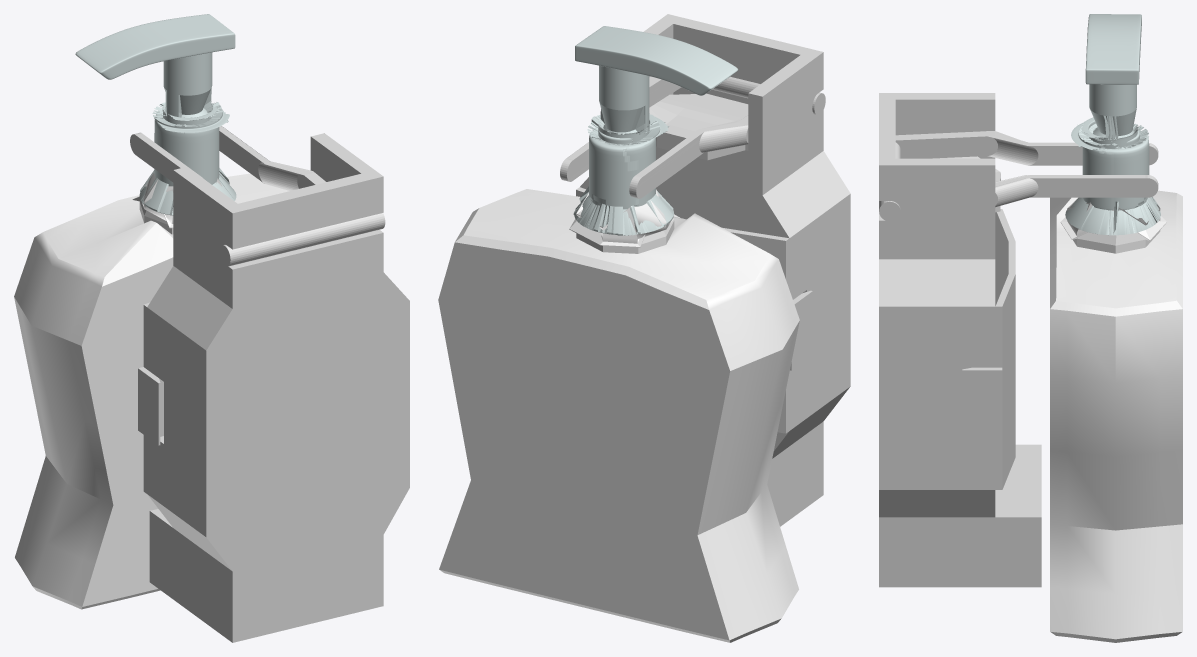
File: handsanitizer.glb
3 views of the same model, side by side, from view 1: azimuth 30°, elevation 25°; view 2: azimuth 150°, elevation 25°; view 3: azimuth 270°, elevation 25° (orthographic). The views are drawn at different scales.
Parts seen in each view (by area): view 1: Cube.001, uploads_files_2594770_Hand+Sanitizer, Cylinder, Cube.002; view 2: uploads_files_2594770_Hand+Sanitizer, Cube.001, Cylinder, Cube.002; view 3: uploads_files_2594770_Hand+Sanitizer, Cube.001, Cylinder, Cube.002.
Part boxes in pixels (<box>): Cube.001: <box>147,133,409,642</box>; uploads_files_2594770_Hand+Sanitizer: <box>14,14,289,609</box>; Cylinder: <box>130,126,385,266</box>; Cube.002: <box>138,302,160,493</box>; uploads_files_2594770_Hand+Sanitizer: <box>438,26,799,642</box>; Cube.001: <box>580,14,850,526</box>; Cylinder: <box>560,76,825,198</box>; Cube.002: <box>576,187,812,433</box>; uploads_files_2594770_Hand+Sanitizer: <box>1050,14,1182,642</box>; Cube.001: <box>879,93,1041,587</box>; Cylinder: <box>879,131,1158,221</box>; Cube.002: <box>962,209,1015,489</box>.
Size of the model in its own units: 2.87 by 4.58 by 2.43.
Materials: 4 (1 with a texture image).
